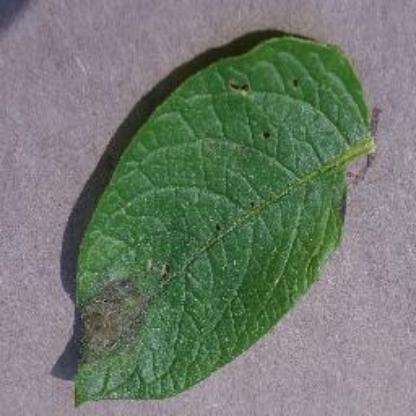Late-Blight: (62, 30, 378, 410)
